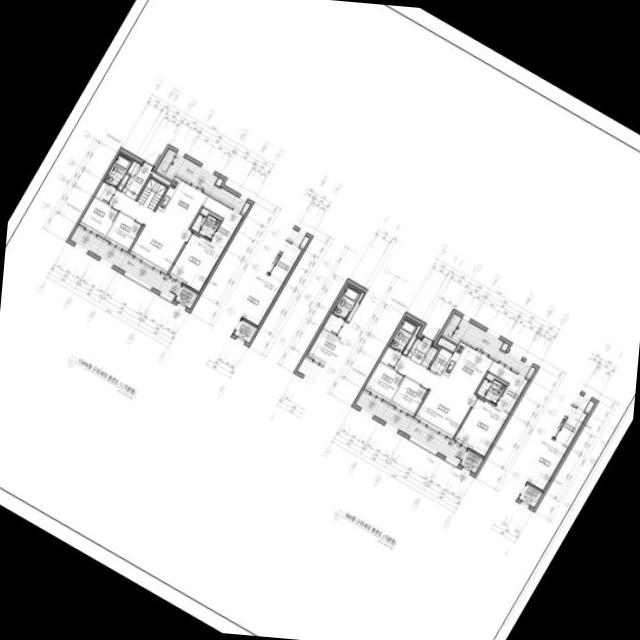background: (0, 0, 640, 640)
space_balconi: (69, 227, 181, 299), (355, 392, 466, 464), (442, 313, 535, 377), (157, 149, 250, 213)
space_bedroom: (168, 232, 223, 292), (454, 397, 508, 456), (364, 362, 404, 402), (79, 197, 118, 238), (105, 212, 142, 251), (390, 377, 427, 416)
space_dressroom: (203, 196, 243, 250), (488, 361, 527, 414)
space_front: (121, 166, 150, 200), (407, 338, 430, 365)
space_kitchen: (440, 342, 492, 394), (155, 177, 207, 229)
space_living_room: (108, 190, 191, 274), (394, 355, 476, 439)
space_other: (136, 177, 167, 211), (429, 348, 451, 374), (403, 325, 420, 355), (380, 347, 401, 368), (94, 182, 115, 203), (421, 346, 437, 367), (437, 337, 456, 352), (151, 172, 170, 186), (485, 373, 507, 385), (200, 208, 222, 220), (127, 160, 140, 176), (117, 174, 129, 190)
space_outdoor_room: (459, 450, 483, 473), (175, 286, 198, 309)
space_toilet: (389, 319, 416, 352), (104, 155, 131, 187), (476, 379, 505, 404), (191, 214, 220, 239)
